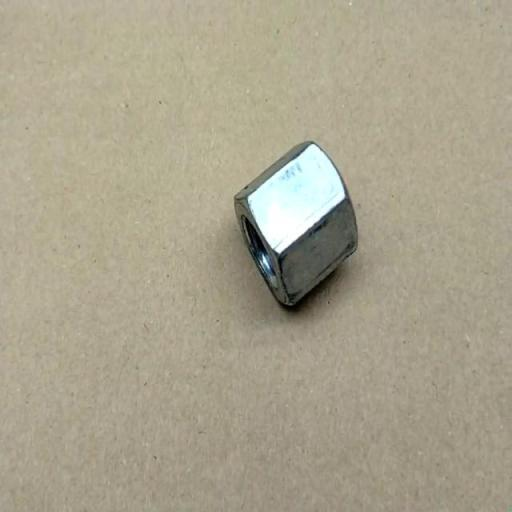Nut: (234, 140, 359, 308)
